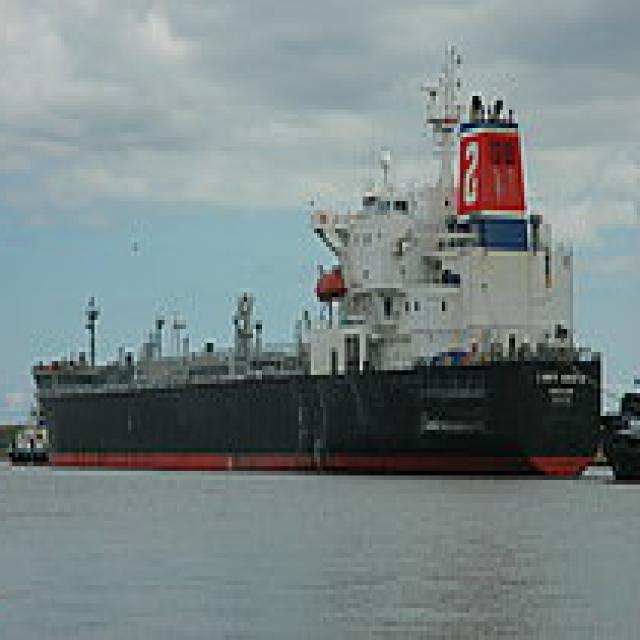Tanker: (34, 41, 606, 471)
